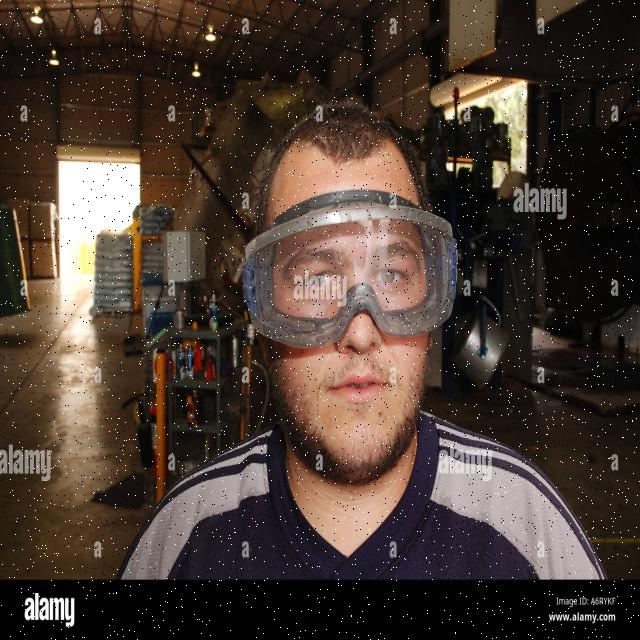goggles_on: (243, 188, 464, 350)
